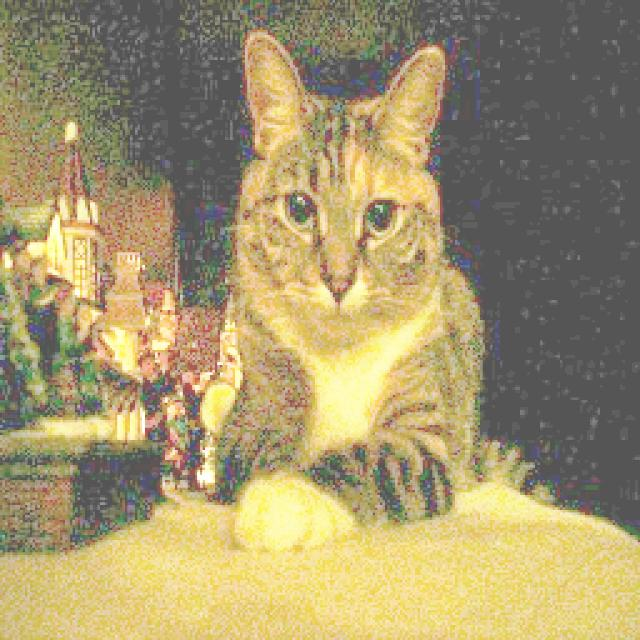cat: (166, 17, 510, 570)
